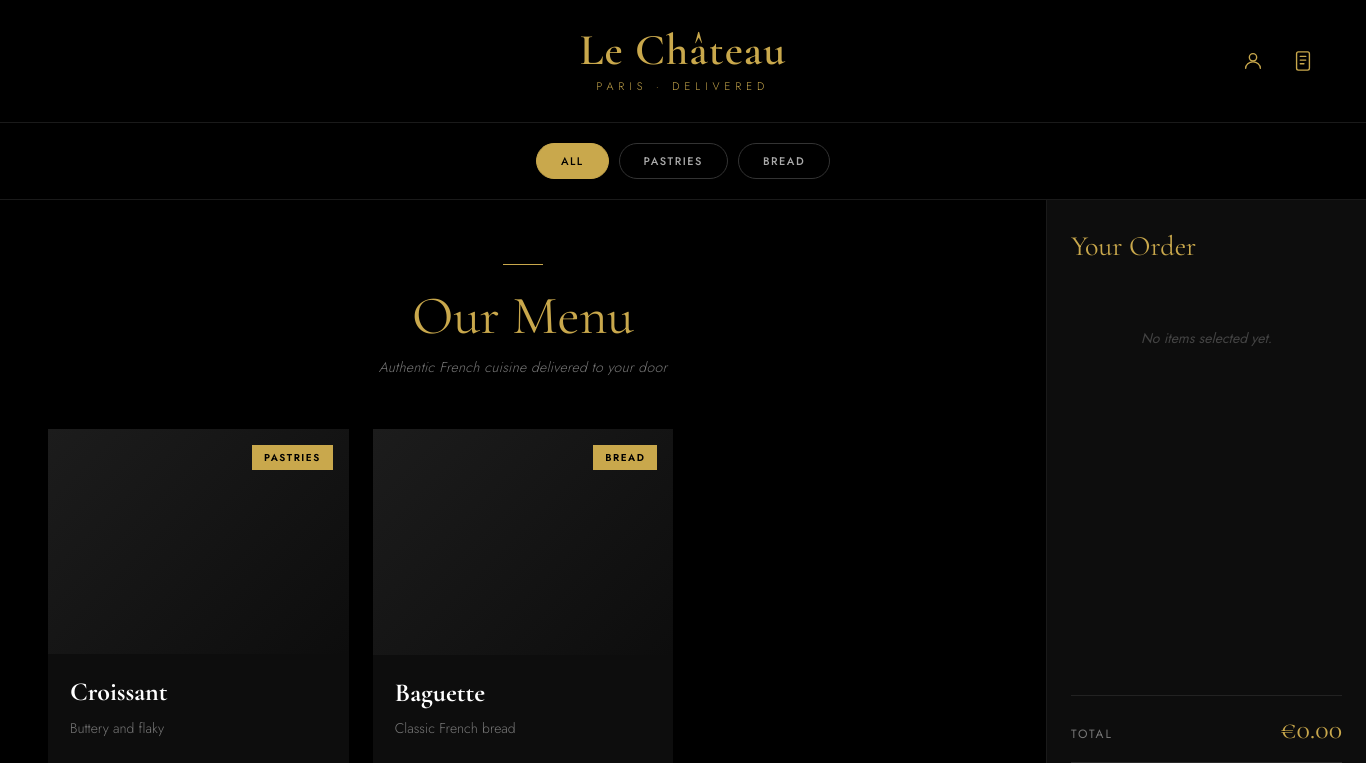
Scenario: App › shows all items when ALL is clicked after filtering
Click the button "PASTRIES" at (673, 161), box [619,143,728,179]
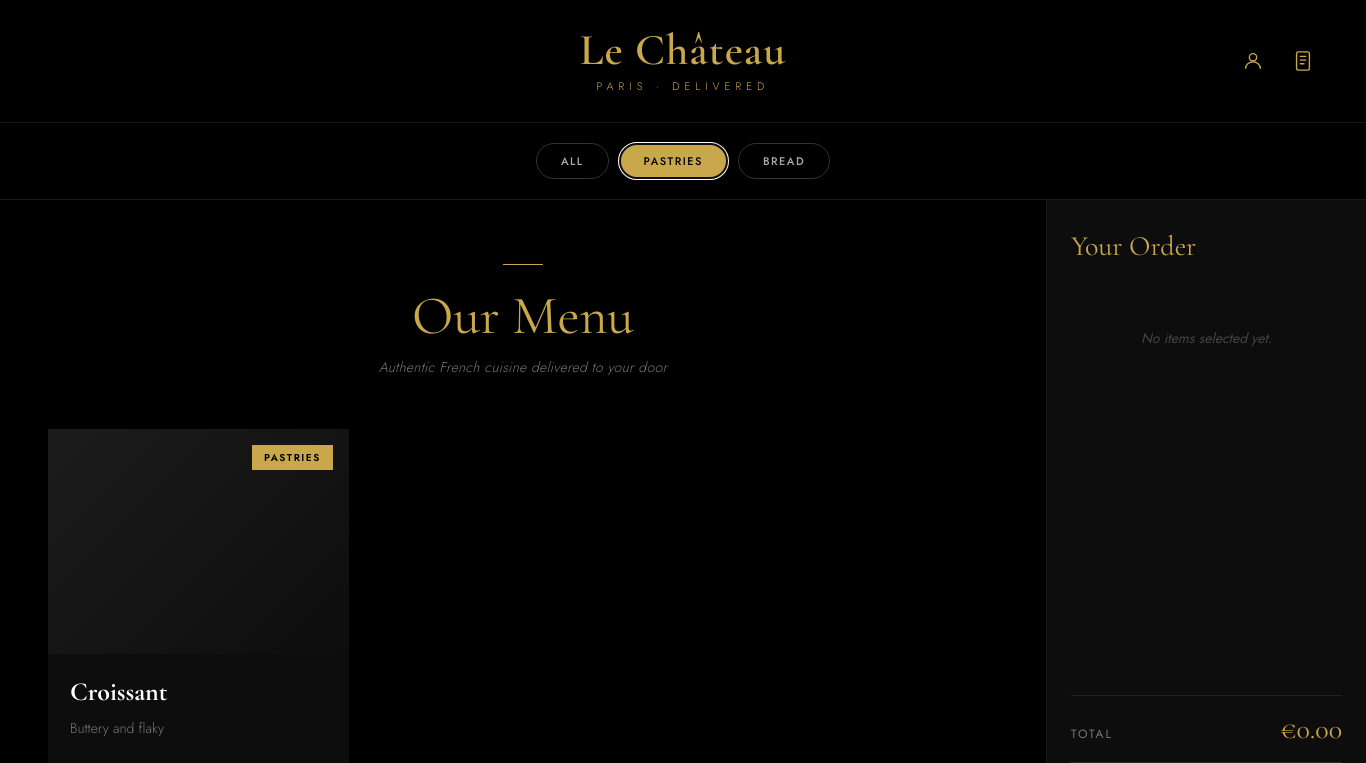
Click the button "ALL" at (572, 161), box [536,143,609,179]
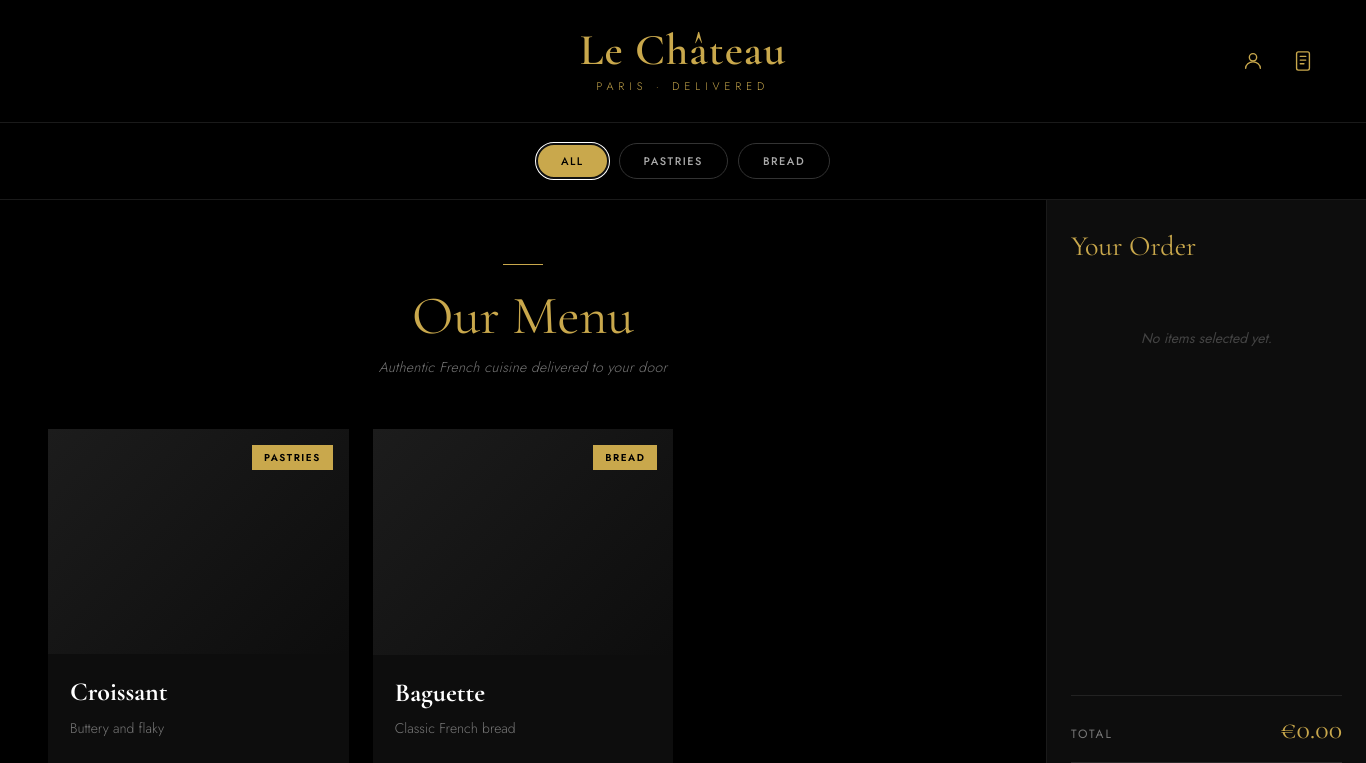
Expected: the heading "Croissant" is shown, [70,676,168,708]
Now the heading "Baguette" is shown, box [395,676,485,708]
